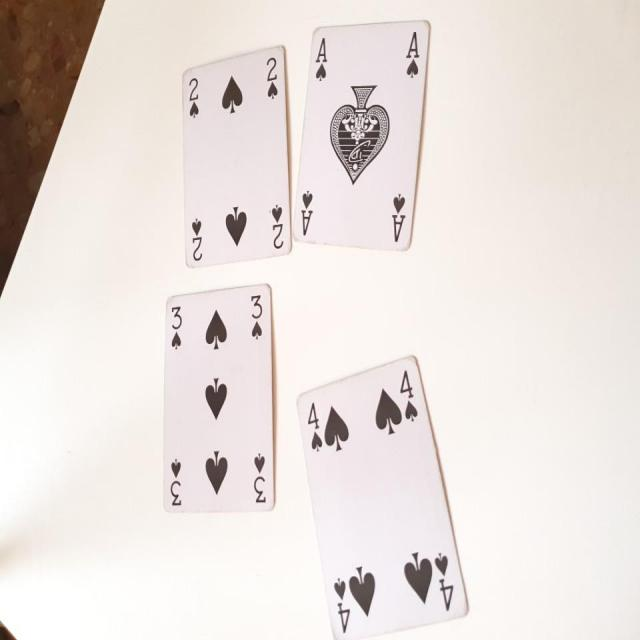3 Diamonds: (180, 42, 294, 270)
4 Diamonds: (160, 284, 278, 513)
5 Diamonds: (289, 361, 471, 640)
A Spades: (292, 20, 429, 252)
